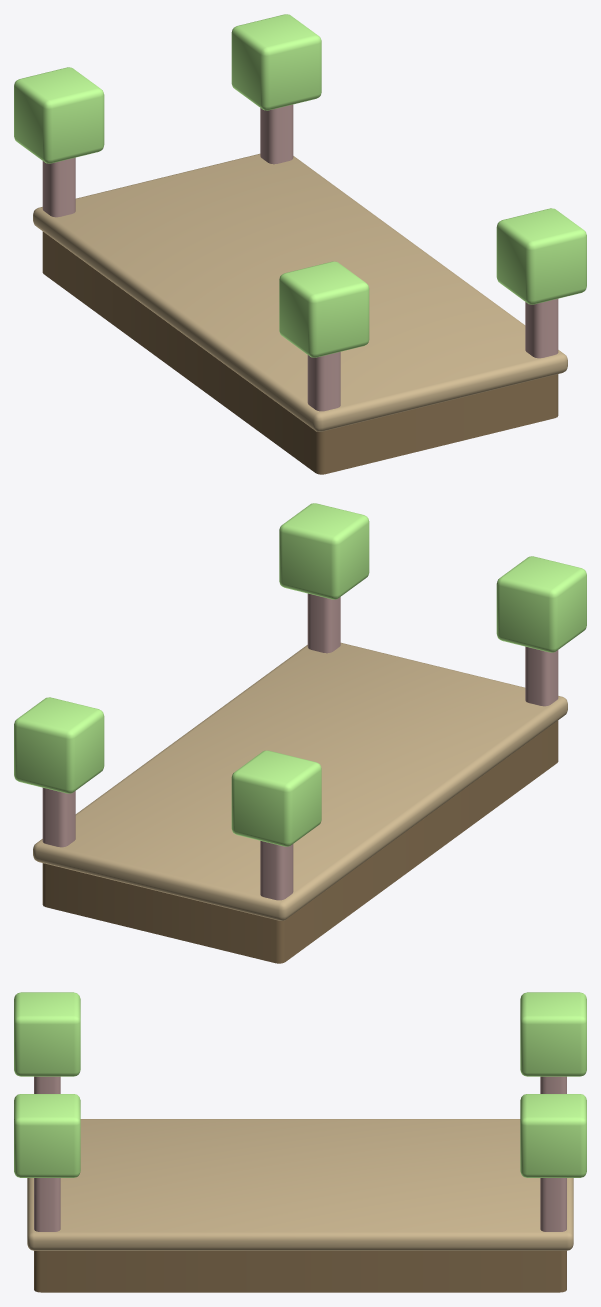
The model's file is GroundSand.fbx.
The picture shows the model from 3 angles, top to bottom: view 1: azimuth 30°, elevation 25°; view 2: azimuth 150°, elevation 25°; view 3: azimuth 270°, elevation 25°; orthographic projection. The views are drawn at different scales.
Visible parts, largest first — view 1: GroundSand; view 2: GroundSand; view 3: GroundSand.
Part boxes in pixels (bbox=[...]): GroundSand: bbox=[14, 14, 586, 474]; GroundSand: bbox=[14, 503, 586, 963]; GroundSand: bbox=[14, 992, 586, 1292].
Size of the model in its own units: 920 by 600 by 1720.
